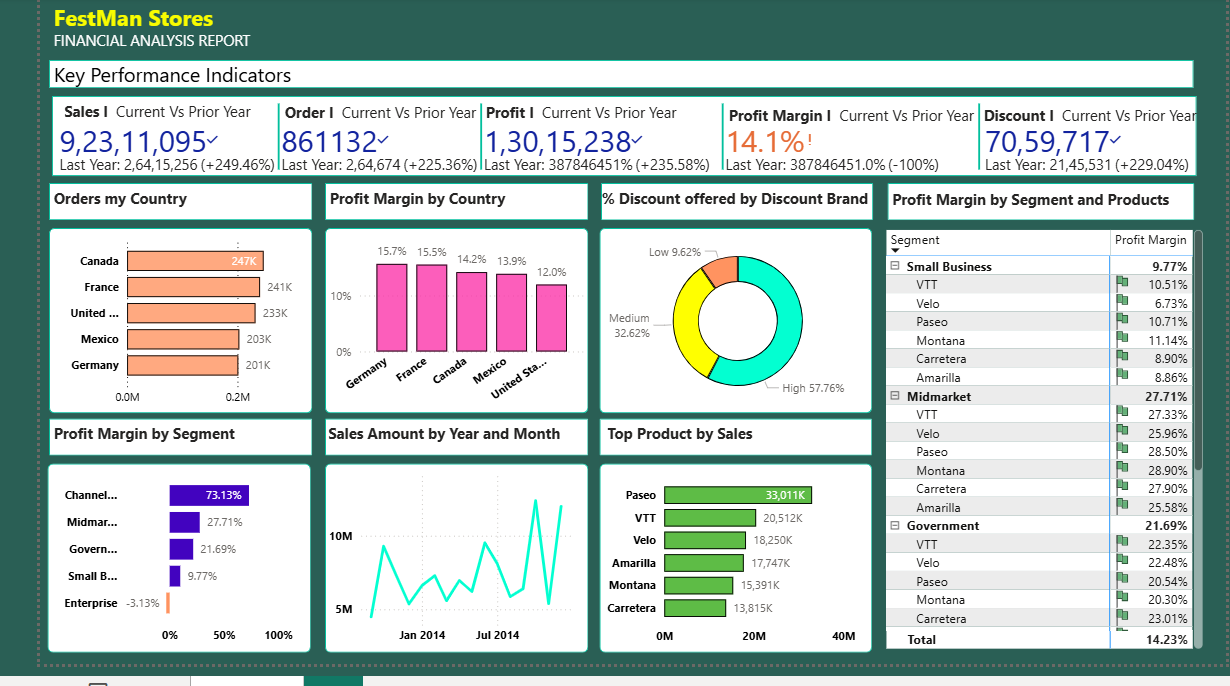

This screenshot's page, from the dashboard's own definition file:
{"tool":"powerbi","page":{"name":"Page 1","canvas":[1280,720],"ordinal":0},"visuals":[{"type":"shape","box":[10.1,67.7,1235.5,30.2],"z":1000},{"type":"shape","box":[13,106.6,1235.5,86.4],"z":2000},{"type":"shape","box":[604.3,248.6,294.3,200],"z":3000},{"type":"shape","box":[604.3,504.3,294.3,204.3],"z":4000},{"type":"shape","box":[307.1,248.6,284.3,200],"z":5000},{"type":"shape","box":[307.1,504.3,284.3,204.3],"z":6000},{"type":"shape","box":[10,248.6,284.3,200],"z":7000},{"type":"shape","box":[8.6,502.9,284.3,204.3],"z":8000},{"type":"shape","box":[10,200,284.3,40],"z":9000},{"type":"shape","box":[307.1,200,284.3,40],"z":10000},{"type":"shape","box":[604.8,200.2,293.8,40.3],"z":11000},{"type":"shape","box":[10,455.7,284.3,40],"z":12000},{"type":"shape","box":[307.1,455.7,284.3,40],"z":13000},{"type":"shape","box":[604.3,455.7,294.3,40],"z":14000},{"type":"textbox","box":[10,0,262.9,58.6],"z":15000},{"type":"textbox","box":[10,30,251.4,40],"z":16000},{"type":"textbox","box":[10,62.9,371.4,44.3],"z":17000},{"type":"kpi","fields":{"Indicator":["Analysis.Sales Amount"],"TrendLine":["Date Table.Year"],"Goal":["Analysis.Sales Amount LY"]},"box":[8.6,135.7,252.9,57.1],"z":18000},{"type":"textbox","box":[21.4,107.1,237.1,42.9],"z":19000},{"type":"shape","box":[234.3,114.3,45.7,71.4],"z":20000},{"type":"kpi","fields":{"TrendLine":["Date Table.Year"],"Indicator":["Analysis.Order"],"Goal":["Analysis.Order LY"]},"box":[247.1,135.7,252.9,57.1],"z":21000},{"type":"kpi","fields":{"TrendLine":["Date Table.Year"],"Indicator":["Analysis.Profit"],"Goal":["Analysis.Profit Margin LY"]},"box":[465.7,135.7,281.4,57.1],"z":22000},{"type":"kpi","fields":{"Indicator":["Analysis.Profit Margin"],"TrendLine":["Date Table.Year"],"Goal":["Analysis.Profit Margin LY"]},"box":[727.1,135.7,282.9,57.1],"z":23000},{"type":"kpi","fields":{"TrendLine":["Date Table.Year"],"Indicator":["Analysis.Discount Offered"],"Goal":["Analysis.Discount Offered LY"]},"box":[1006.6,135.4,239,57.6],"z":24000},{"type":"shape","box":[452.9,114.3,45.7,71.4],"z":25000},{"type":"shape","box":[714.3,114.3,45.7,71.4],"z":26000},{"type":"shape","box":[991.4,114.3,45.7,71.4],"z":27000},{"type":"textbox","box":[258.6,108.6,220,47.1],"z":28000},{"type":"textbox","box":[475.7,108.6,281.4,45.7],"z":29000},{"type":"textbox","box":[738.6,111.4,298.6,44.3],"z":30000},{"type":"textbox","box":[1013.8,112.3,256.3,41.8],"z":31000},{"type":"barChart","fields":{"Category":["Financials.Country"],"Y":["Analysis.Order"]},"box":[10,248.6,284.3,200],"z":32000},{"type":"textbox","box":[10,200,282.9,52.9],"z":33000},{"type":"clusteredColumnChart","fields":{"Y":["Analysis.Profit Margin"],"Category":["Financials.Country"]},"box":[307.1,248.6,284.3,200],"z":34000},{"type":"donutChart","fields":{"Category":["Financials.Discount Band"],"Y":["Analysis.Discount Offered"]},"box":[607.1,248.6,291.4,200],"z":35000},{"type":"textbox","box":[307.1,200,284.3,52.9],"z":36000},{"type":"textbox","box":[591.8,200.2,311,59],"z":37000},{"type":"barChart","fields":{"Category":["Financials.Segment"],"Y":["Analysis.Profit Margin"]},"box":[8.6,502.6,283.7,204.5],"z":38000},{"type":"lineChart","fields":{"Category":["Date Table.Date.Variation.Date Hierarchy.Year","Date Table.Date.Variation.Date Hierarchy.Month"],"Y":["Analysis.Sales Amount"]},"box":[306.7,504,285.1,203],"z":39000},{"type":"barChart","fields":{"Y":["Analysis.Sales Amount"],"Category":["Financials.Product"]},"box":[606.2,505.4,292.3,203],"z":40000},{"type":"textbox","box":[10.1,455,282.2,40.3],"z":41000},{"type":"textbox","box":[306.7,455,332.6,41.8],"z":42000},{"type":"textbox","box":[607.7,455,290.9,40.3],"z":43000},{"type":"pivotTable","fields":{"Rows":["Financials.Segment","Financials.Product"],"Values":["Analysis.Profit Margin"]},"box":[908.6,246.2,351.4,462.2],"z":44000},{"type":"shape","box":[914.4,200.2,331.2,40.3],"z":45000},{"type":"textbox","box":[914.4,201.6,331.2,38.9],"z":46000}]}

Visuals, with their boxes in screenshot pixels (x1, y1, x2, y2), scaled from the page's 1280x720 canvas onto the 1230x686 screenshot:
shape: box=[10, 65, 1197, 93]
shape: box=[12, 102, 1200, 184]
shape: box=[581, 237, 863, 427]
shape: box=[581, 480, 863, 675]
shape: box=[295, 237, 568, 427]
shape: box=[295, 480, 568, 675]
shape: box=[10, 237, 283, 427]
shape: box=[8, 479, 281, 674]
shape: box=[10, 191, 283, 229]
shape: box=[295, 191, 568, 229]
shape: box=[581, 191, 863, 229]
shape: box=[10, 434, 283, 472]
shape: box=[295, 434, 568, 472]
shape: box=[581, 434, 863, 472]
textbox: box=[10, 0, 262, 56]
textbox: box=[10, 29, 251, 67]
textbox: box=[10, 60, 367, 102]
kpi - Analysis.Sales Amount x Date Table.Year: box=[8, 129, 251, 184]
textbox: box=[21, 102, 248, 143]
shape: box=[225, 109, 269, 177]
kpi - Date Table.Year x Analysis.Order: box=[237, 129, 480, 184]
kpi - Date Table.Year x Analysis.Profit: box=[448, 129, 718, 184]
kpi - Analysis.Profit Margin x Date Table.Year: box=[699, 129, 971, 184]
kpi - Date Table.Year x Analysis.Discount Offered: box=[967, 129, 1197, 184]
shape: box=[435, 109, 479, 177]
shape: box=[686, 109, 730, 177]
shape: box=[953, 109, 997, 177]
textbox: box=[248, 103, 460, 148]
textbox: box=[457, 103, 728, 147]
textbox: box=[710, 106, 997, 148]
textbox: box=[974, 107, 1220, 147]
barChart - Financials.Country x Analysis.Order: box=[10, 237, 283, 427]
textbox: box=[10, 191, 281, 241]
clusteredColumnChart - Analysis.Profit Margin x Financials.Country: box=[295, 237, 568, 427]
donutChart - Financials.Discount Band x Analysis.Discount Offered: box=[583, 237, 863, 427]
textbox: box=[295, 191, 568, 241]
textbox: box=[569, 191, 868, 247]
barChart - Financials.Segment x Analysis.Profit Margin: box=[8, 479, 281, 674]
lineChart - Date Table.Date.Variation.Date Hierarchy.Year x Date Table.Date.Variation.Date Hierarchy.Month: box=[295, 480, 569, 674]
barChart - Analysis.Sales Amount x Financials.Product: box=[583, 482, 863, 675]
textbox: box=[10, 434, 281, 472]
textbox: box=[295, 434, 614, 473]
textbox: box=[584, 434, 863, 472]
pivotTable - Financials.Segment x Financials.Product: box=[873, 235, 1211, 675]
shape: box=[879, 191, 1197, 229]
textbox: box=[879, 192, 1197, 229]
